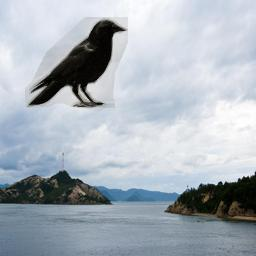Crow: (25, 17, 128, 111)
